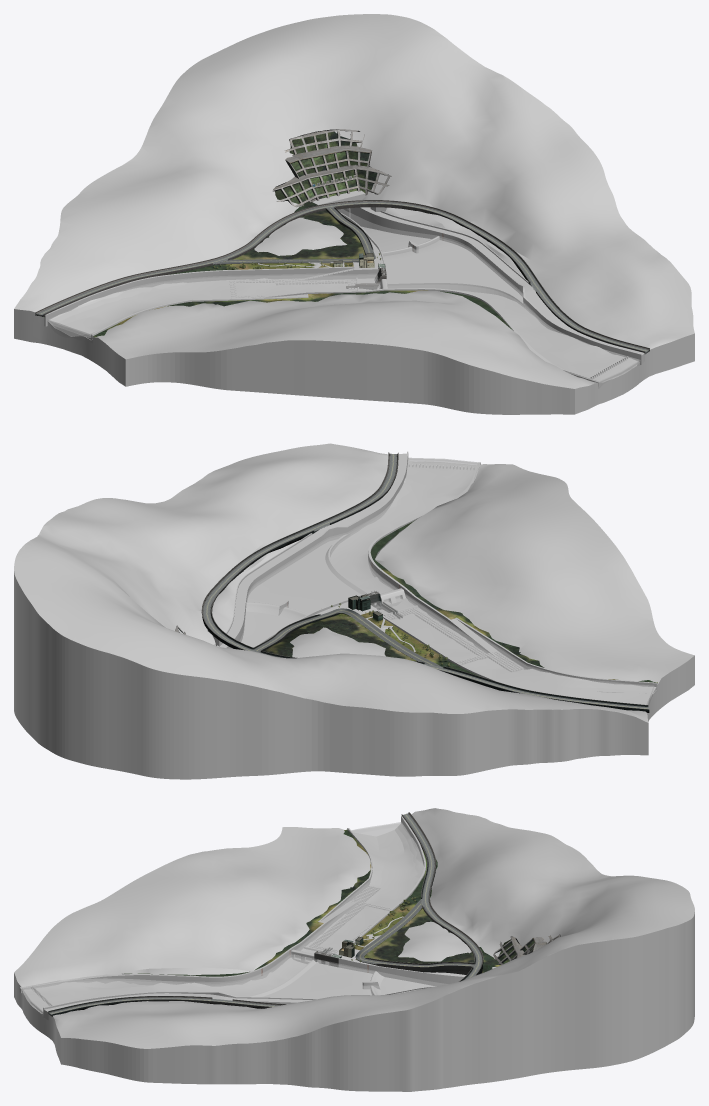
Rendered from Flood Diversion_Entrance_0627bake.gltf.
The picture shows the model from 3 angles, top to bottom: view 1: azimuth 30°, elevation 25°; view 2: azimuth 150°, elevation 25°; view 3: azimuth 270°, elevation 25°; orthographic projection. The views are drawn at different scales.
Parts seen in each view (by area): view 1: entrance_terrain, river_3, diversion, river_2, wall frame, side land, road.001, sidewall01, wall frame.002, cubes; view 2: entrance_terrain, river_3, river_2, diversion, side land, road.001, sidewall01, cubes; view 3: entrance_terrain, river_3, river_2, diversion, side land, road.001, sidewall01, cubes, wall frame.
Part boxes in pixels (<box>): entrance_terrain: <box>14,14,694,414</box>; river_3: <box>48,209,638,381</box>; diversion: <box>44,207,644,386</box>; river_2: <box>49,238,640,388</box>; wall frame: <box>272,131,391,207</box>; side land: <box>43,202,512,337</box>; road.001: <box>35,201,649,354</box>; sidewall01: <box>35,200,649,353</box>; wall frame.002: <box>284,129,364,154</box>; cubes: <box>192,278,357,299</box>; entrance_terrain: <box>14,443,694,779</box>; river_3: <box>240,458,653,704</box>; river_2: <box>247,457,654,704</box>; diversion: <box>207,451,657,696</box>; side land: <box>264,519,657,683</box>; road.001: <box>203,453,648,709</box>; sidewall01: <box>201,452,649,712</box>; cubes: <box>385,608,523,671</box>; entrance_terrain: <box>14,808,694,1091</box>; river_3: <box>23,822,447,1012</box>; river_2: <box>21,823,423,1015</box>; diversion: <box>19,816,466,1020</box>; side land: <box>124,829,500,976</box>; road.001: <box>48,813,482,1016</box>; sidewall01: <box>48,812,483,1015</box>; cubes: <box>308,885,391,952</box>; wall frame: <box>493,936,546,964</box>.
Size of the model in its own units: 16.74 by 3.87 by 18.92.
